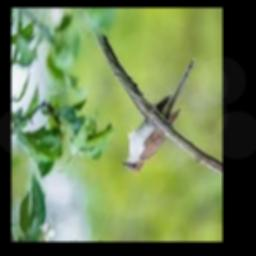Cuckoo: (121, 59, 195, 172)
